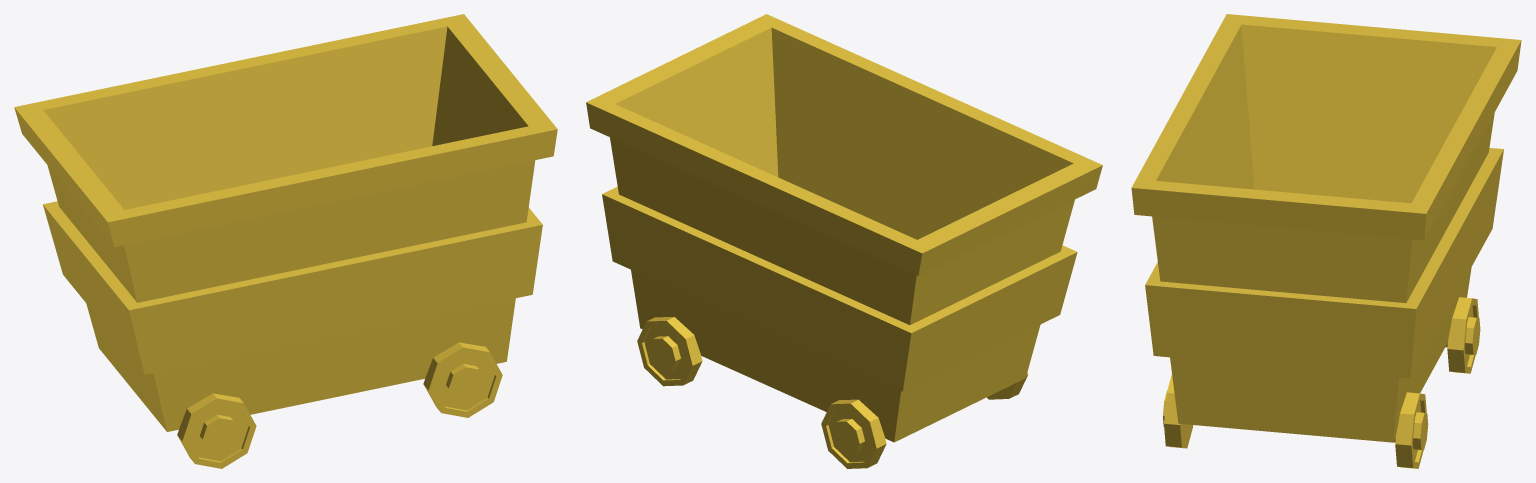
File: Minecart.fbx
3 views of the same model, side by side, from view 1: azimuth 30°, elevation 25°; view 2: azimuth 150°, elevation 25°; view 3: azimuth 270°, elevation 25° (orthographic). The views are drawn at different scales.
Parts seen in each view (by area): view 1: Minecart, MinecartWheels; view 2: Minecart, MinecartWheels; view 3: Minecart, MinecartWheels.
Part boxes in pixels (bbox=[...]): Minecart: bbox=[14, 14, 557, 431]; MinecartWheels: bbox=[177, 342, 502, 468]; Minecart: bbox=[586, 14, 1102, 442]; MinecartWheels: bbox=[637, 317, 1028, 468]; Minecart: bbox=[1131, 14, 1521, 442]; MinecartWheels: bbox=[1163, 297, 1480, 468].
Size of the model in its own units: 15.38 by 11.12 by 9.81.
